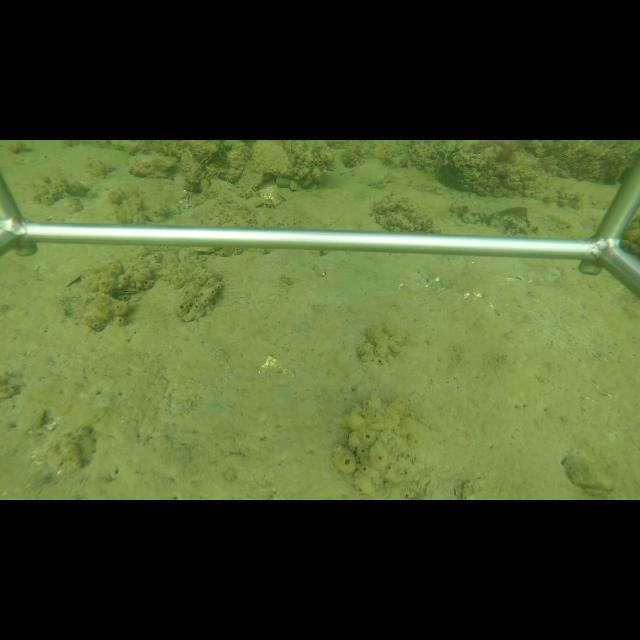Oyster-Closed: (250, 141, 296, 180)
